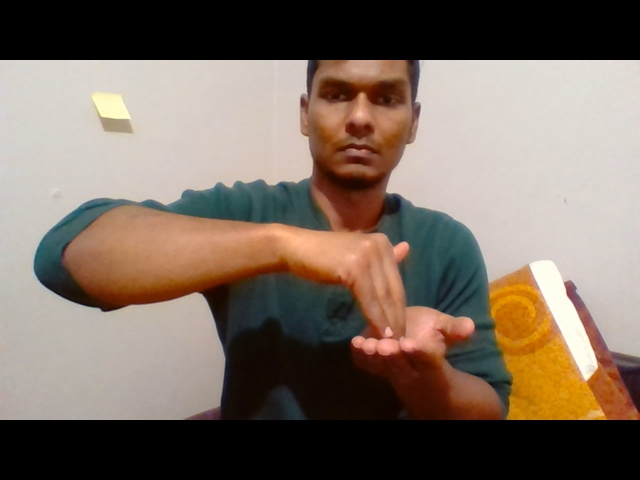ExcuseMe: (267, 221, 479, 387)
